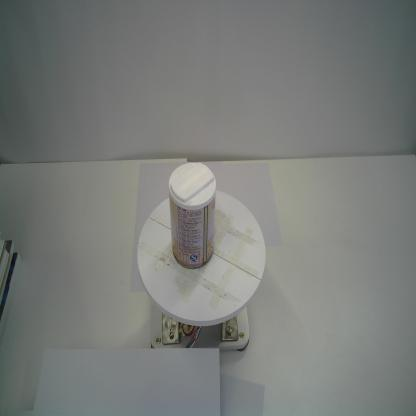Canned Food: (167, 161, 218, 271)
